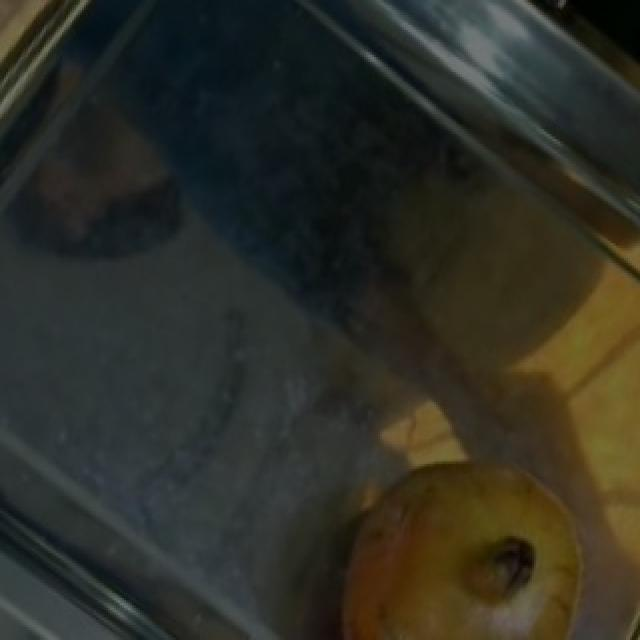fruit: (334, 422, 620, 638)
